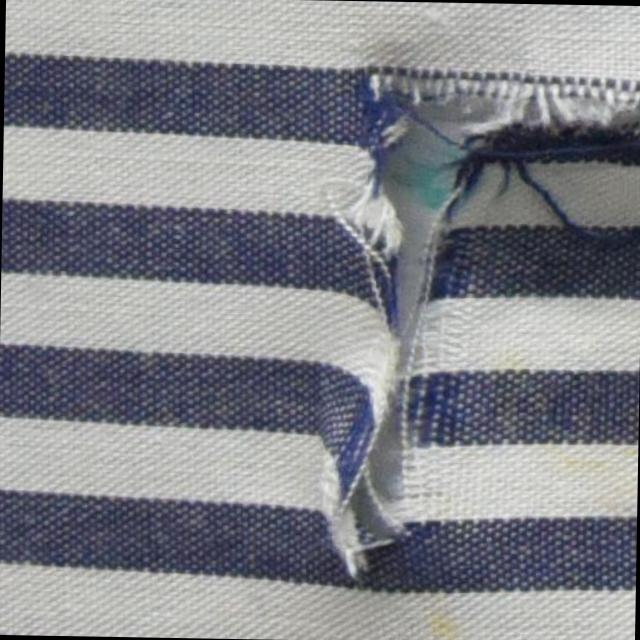cut: (329, 159, 464, 576), (351, 54, 640, 183)
